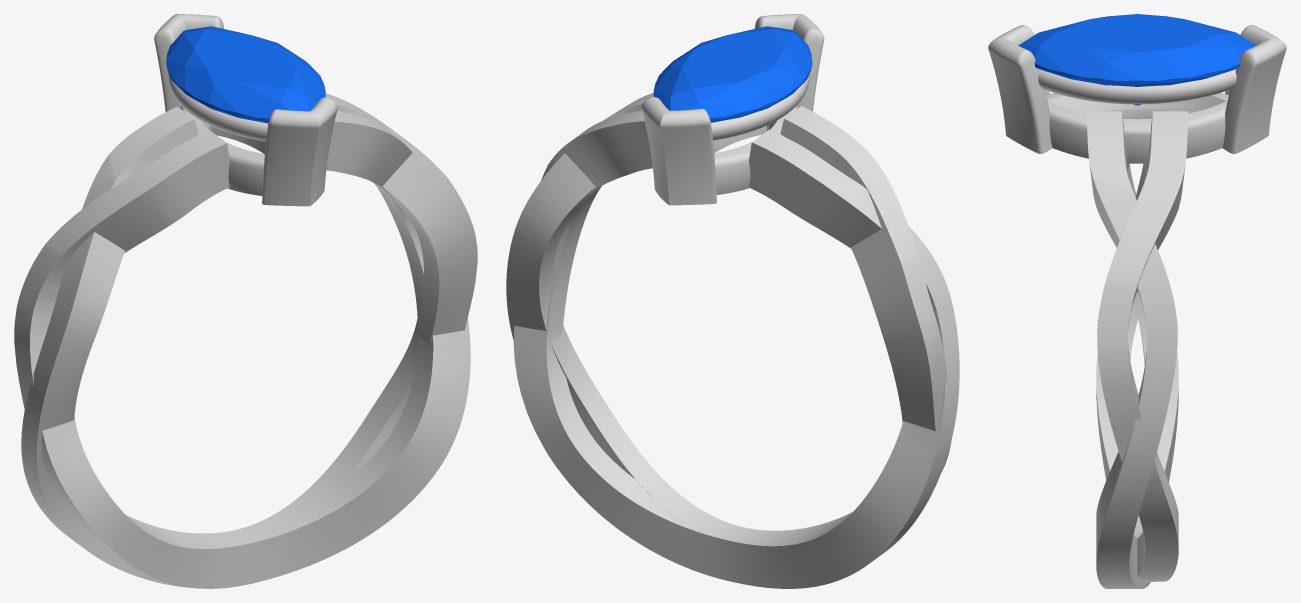
Rendered from bluesapphire-marquise-platinum-protectededges2prongs-twist-nosidestones.glb.
The picture shows the model from 3 angles, left to right: view 1: azimuth 30°, elevation 25°; view 2: azimuth 150°, elevation 25°; view 3: azimuth 270°, elevation 25°; orthographic projection. The views are drawn at different scales.
Parts seen in each view (by area): view 1: metal, stone; view 2: metal, stone; view 3: metal, stone.
Part boxes in pixels (x1,y1,x2,y2): metal: [14, 14, 477, 588]; stone: [166, 26, 325, 123]; metal: [506, 14, 959, 588]; stone: [653, 26, 812, 122]; metal: [988, 25, 1286, 588]; stone: [1018, 14, 1256, 105].
Size of the model in its own units: 19.97 by 22.84 by 11.69.
